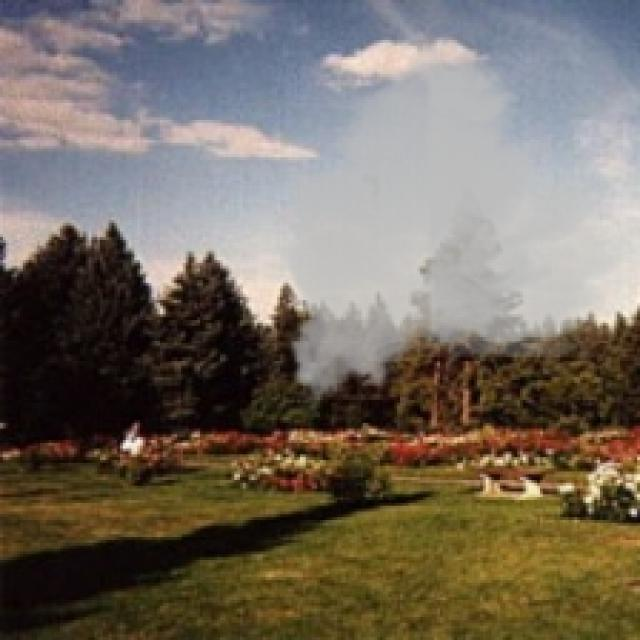Smoke: (266, 32, 638, 414)
